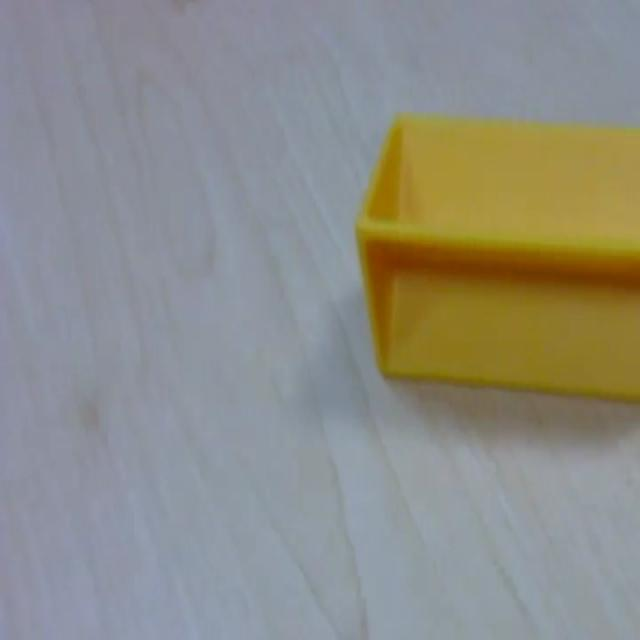yellow_block: (355, 110, 638, 402)
